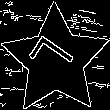L_SE: (27, 33, 84, 87)
